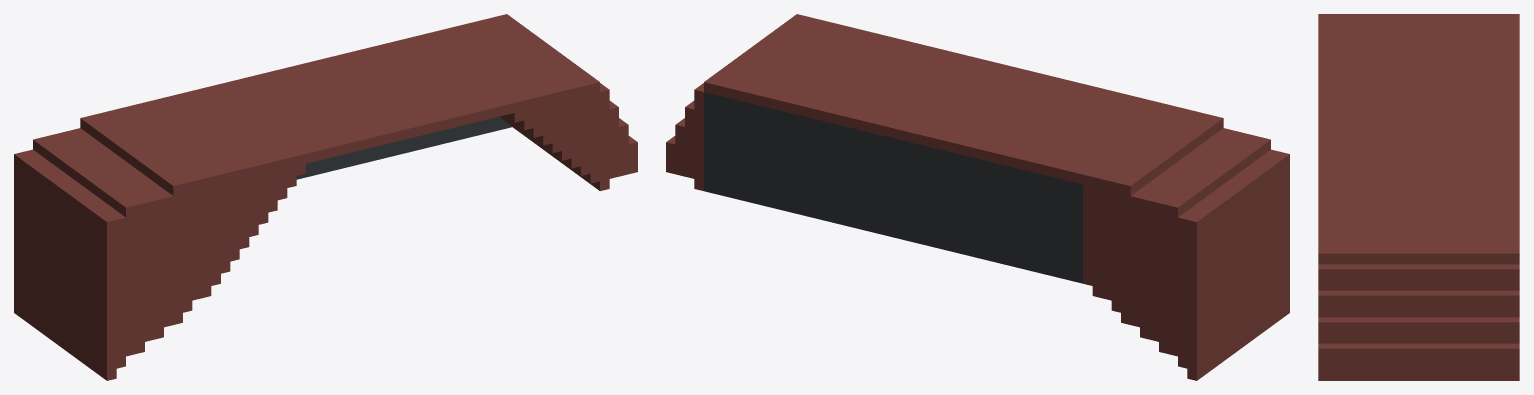
Rendered from semi_tractor_wing.glb.
3 renders of one model, left to right at view 1: azimuth 30°, elevation 25°; view 2: azimuth 150°, elevation 25°; view 3: azimuth 270°, elevation 25°, orthographic. The views are drawn at different scales.
Parts seen in each view (by area): view 1: body:compound; view 2: body:compound; view 3: body:compound.
Part boxes in pixels (x1,y1,x2,y2): body:compound: (14,14,637,380); body:compound: (666,14,1289,380); body:compound: (1318,14,1519,380).
Size of the model in its own units: 1.75 by 0.5625 by 0.5312.
